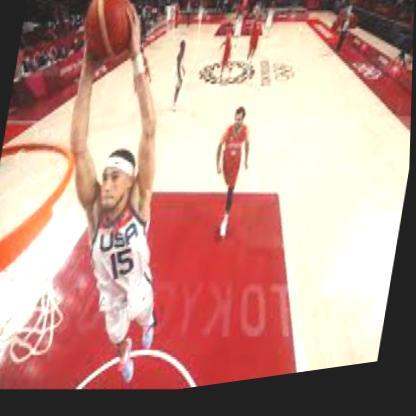basketball: (78, 0, 139, 70)
rim: (0, 129, 83, 299)
